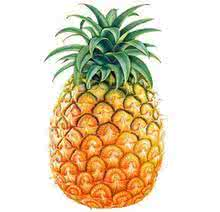orange: (60, 72, 81, 94)
pineapple: (44, 1, 165, 206)
